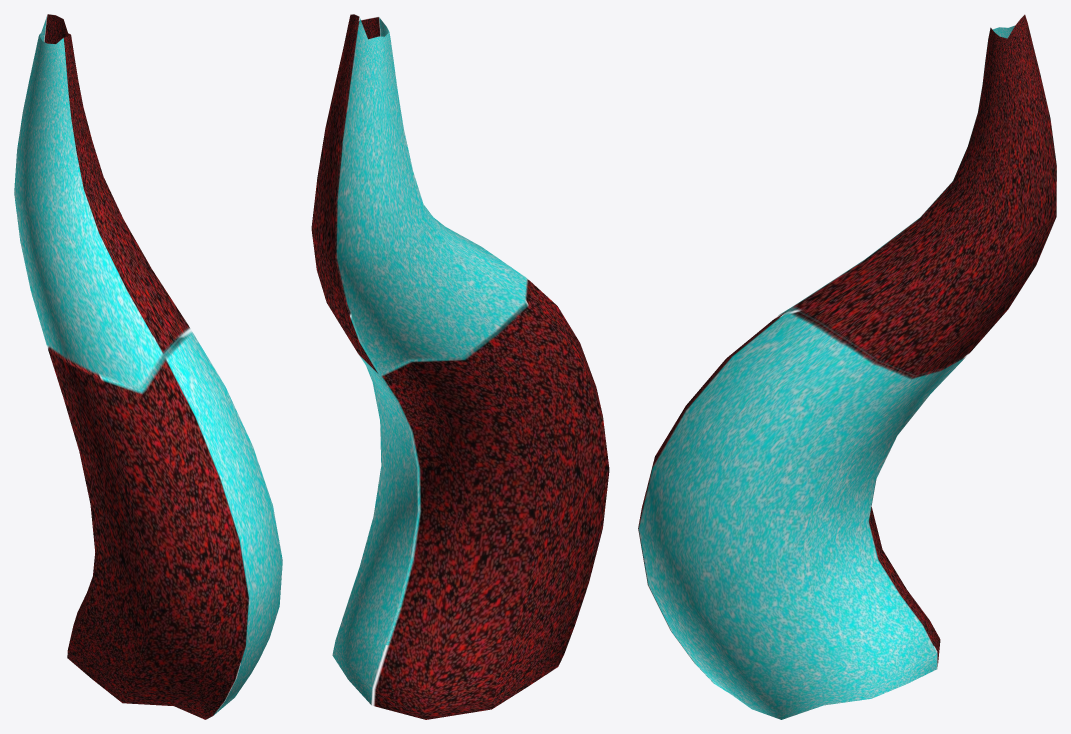
3 renders of one model, left to right at view 1: azimuth 30°, elevation 25°; view 2: azimuth 150°, elevation 25°; view 3: azimuth 270°, elevation 25°, orthographic. The views are drawn at different scales.
Visible parts, largest first — view 1: SM_VFX_WispC_LOD0; view 2: SM_VFX_WispC_LOD0; view 3: SM_VFX_WispC_LOD0.
Boxes of the visible parts, x1=… form: SM_VFX_WispC_LOD0: x1=14, y1=14, x2=282, y2=719; SM_VFX_WispC_LOD0: x1=311, y1=14, x2=609, y2=719; SM_VFX_WispC_LOD0: x1=638, y1=14, x2=1056, y2=719.
Bounding box in the file's own units: 4.1 × 16.62 × 9.46.
1 material, 1 textured.
